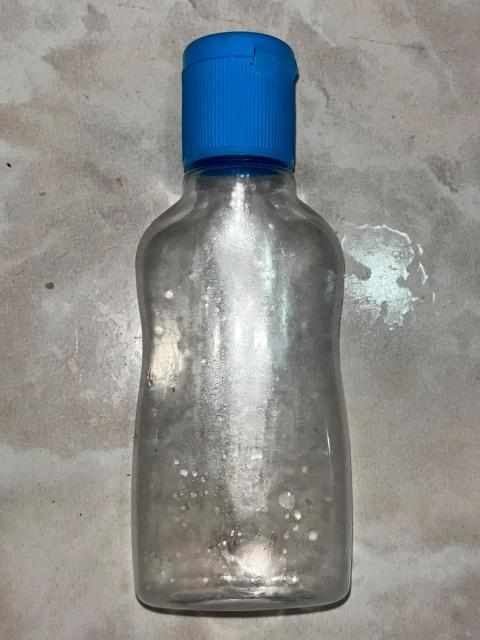PET: (110, 21, 389, 618)
